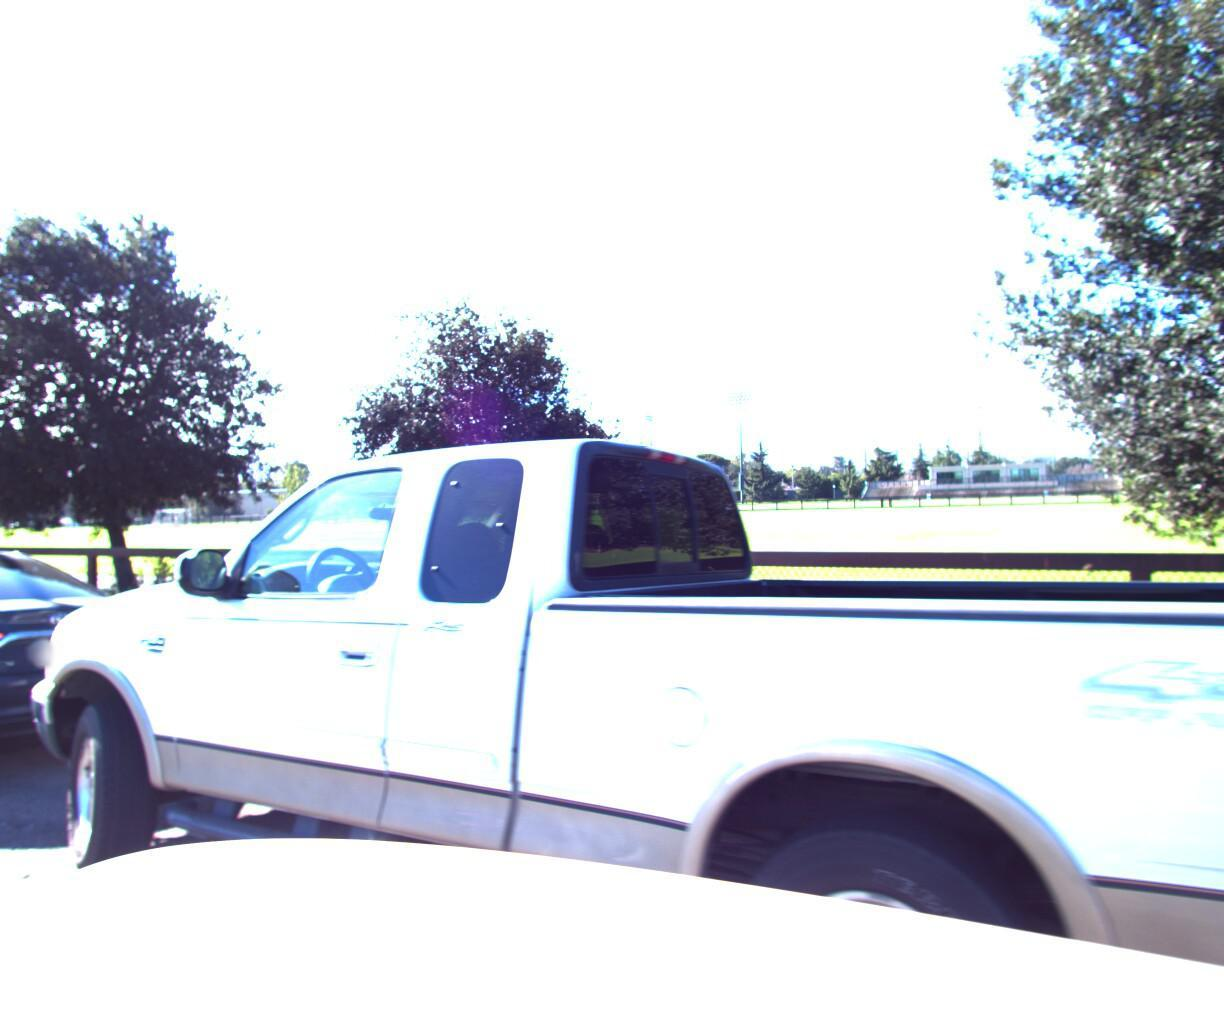car: (0, 272, 1224, 1024), (0, 533, 199, 820)
